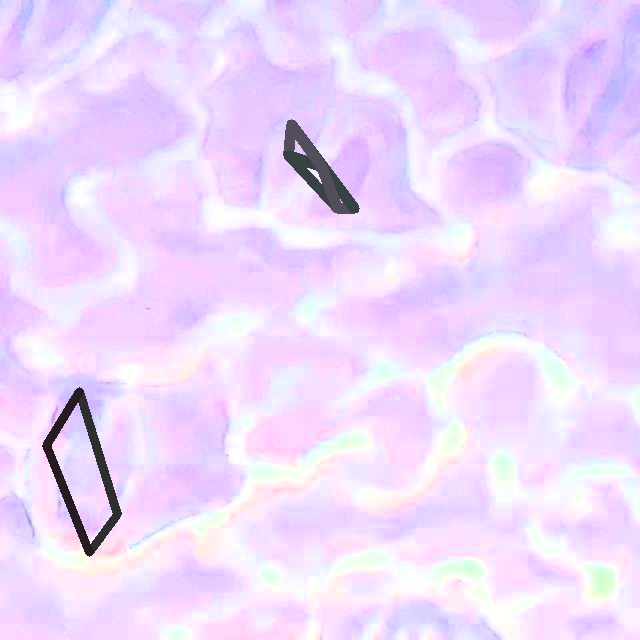close: (283, 119, 359, 213)
open: (42, 387, 121, 556)
